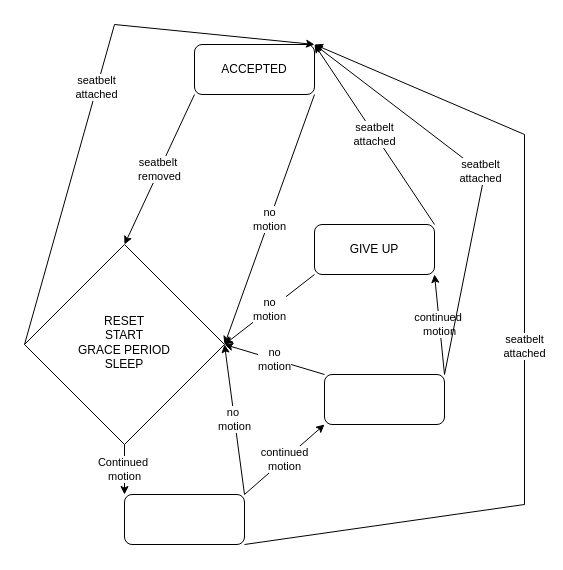
This 563x570 diagram has some shape labels left out. Each missing label, with the centre of its shape:
WARNING 1: pixel 184 519
WARNING 2: pixel 384 399
